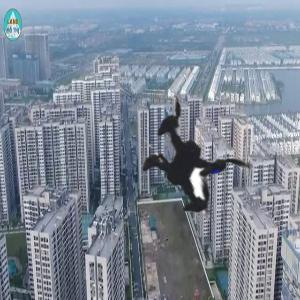drone: (67, 55, 291, 279)
